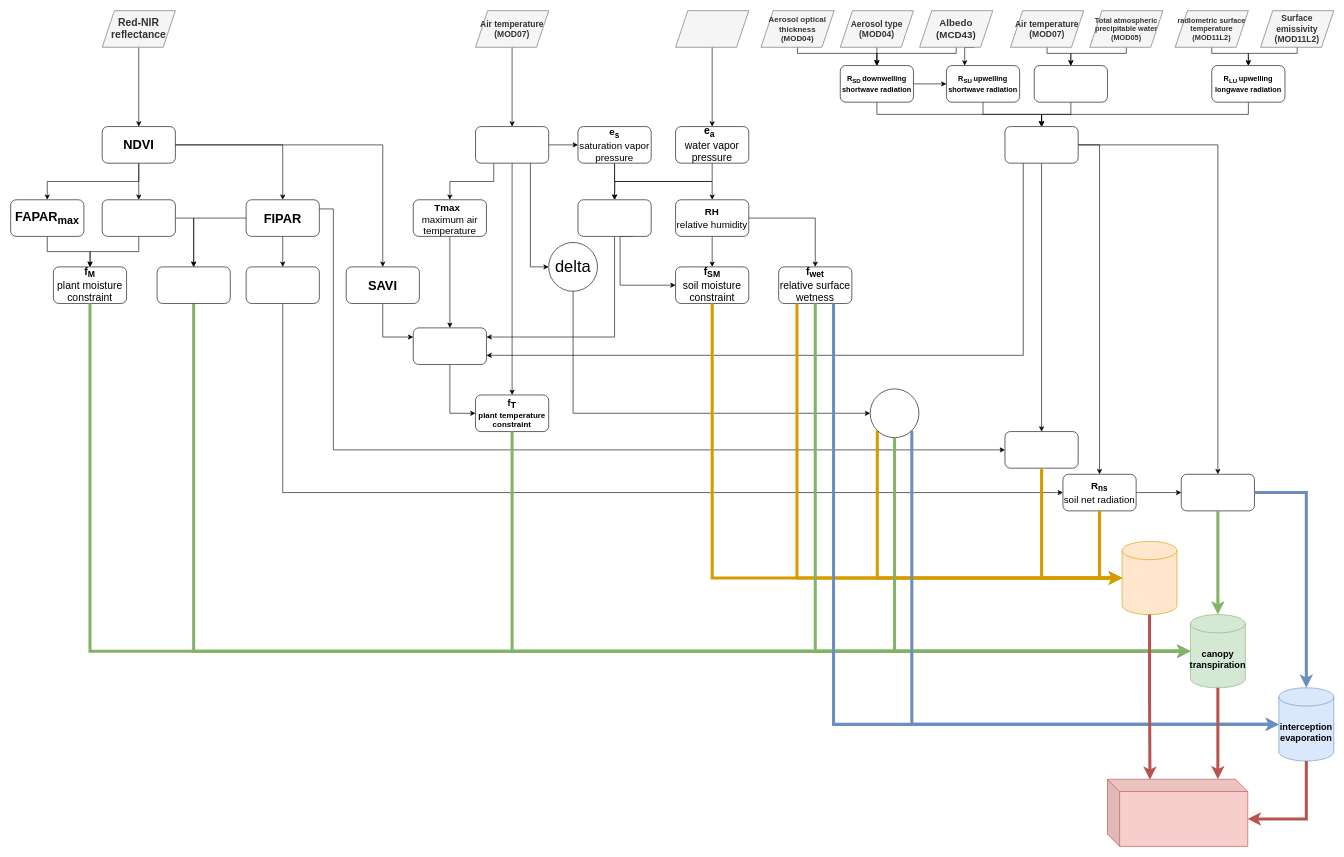
The diagram is 1344 pixels wide and 857 high, and some of its shapes have lost their labels. Here are the shapes that lost their labels. From the top down, the centre of each, then its label:
(712,28): Dew point temperature (MOD07)
(1070,83): R LD downwelling longwave radiation
(512,144): Ta near surface air temperature
(1041,144): R N net radiation
(138,217): FAPAR
(614,217): VPD vapor pressure deficit
(193,284): f g green canopy fraction
(282,284): LAI
(449,345): T opt optimum temperature
(894,413): epsilon
(1041,449): G ground heat flux
(1217,492): R nc canopy net radiation
(1149,578): soil evaporation
(1177,812): total evapotranspiration
